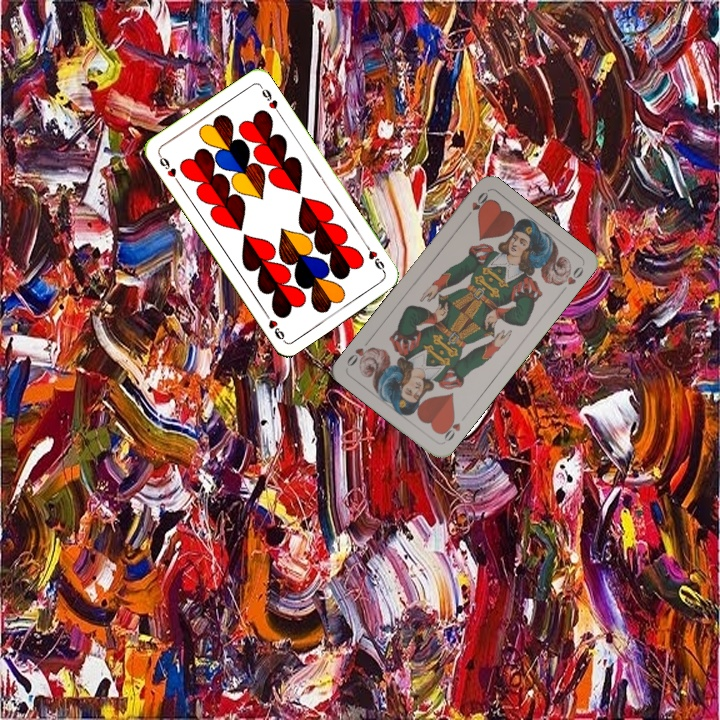H9: (154, 150, 182, 186), (360, 239, 388, 275)
HO: (461, 188, 491, 222), (437, 412, 463, 445)
